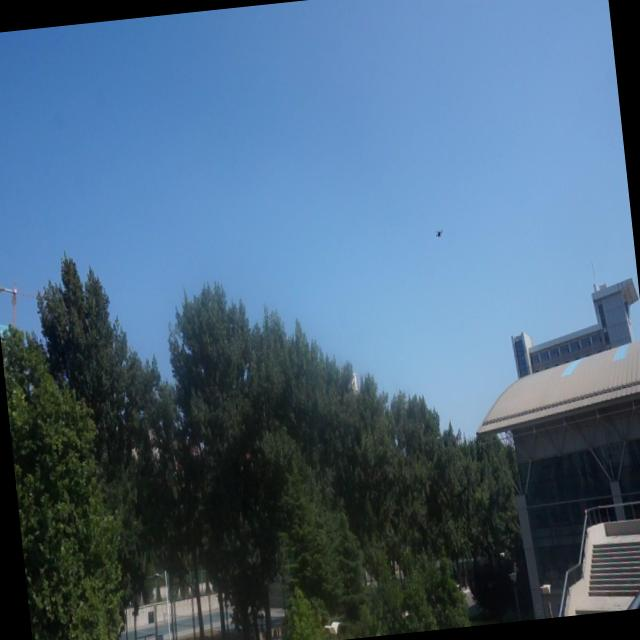drone: (432, 224, 446, 242)
